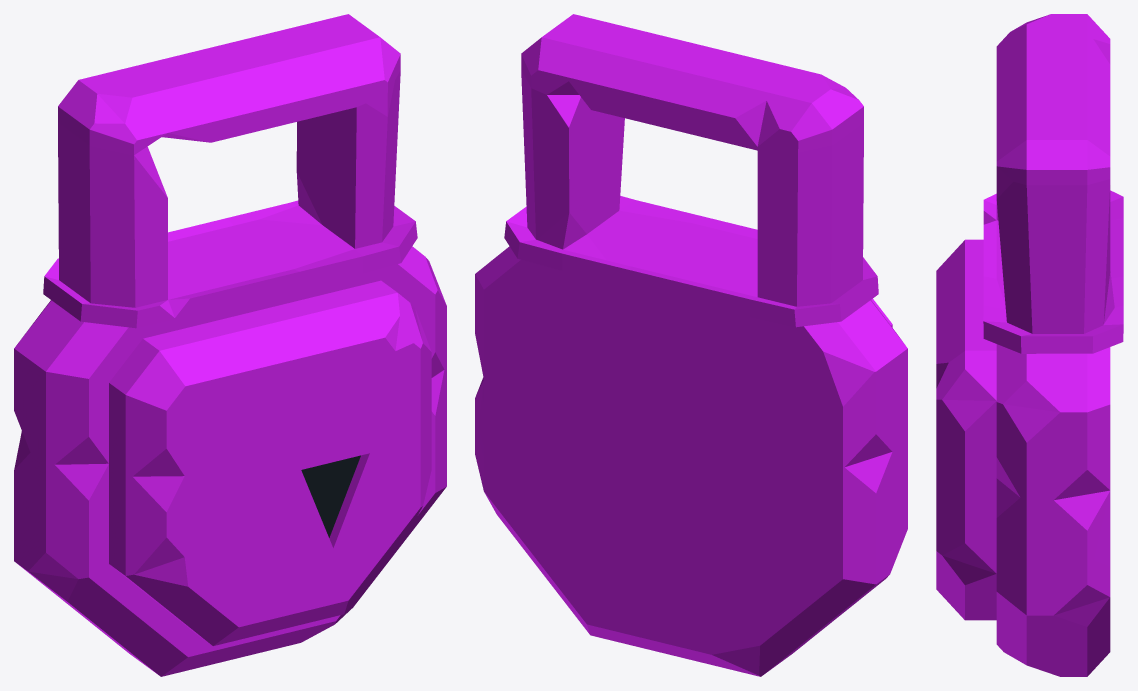
The model's file is pink_lock.glb.
3 views of the same model, side by side, from view 1: azimuth 30°, elevation 25°; view 2: azimuth 150°, elevation 25°; view 3: azimuth 270°, elevation 25° (orthographic). The views are drawn at different scales.
Visible parts, largest first — view 1: Circle.027; view 2: Circle.027; view 3: Circle.027.
Boxes of the visible parts, x1=… form: Circle.027: x1=14, y1=14, x2=446, y2=676; Circle.027: x1=475, y1=14, x2=907, y2=676; Circle.027: x1=936, y1=14, x2=1123, y2=676.
Size of the model in its own units: 2 by 2.79 by 0.8475.
1 material, 1 textured.
